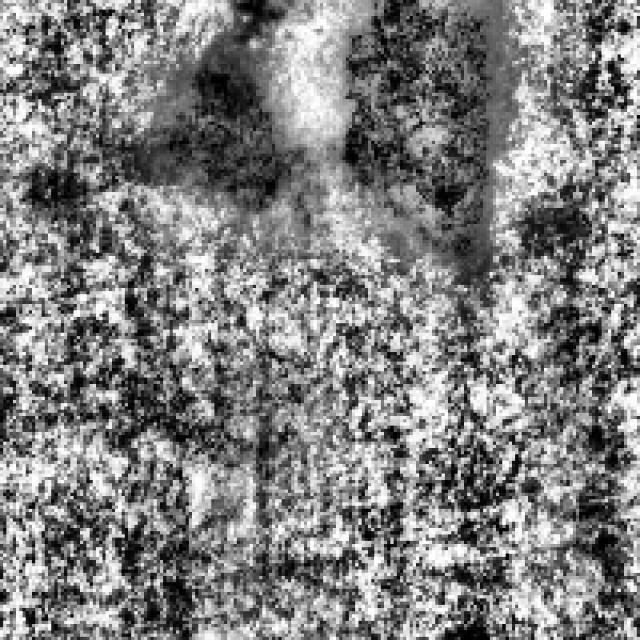Scratches: (339, 0, 496, 250), (137, 35, 310, 208)
